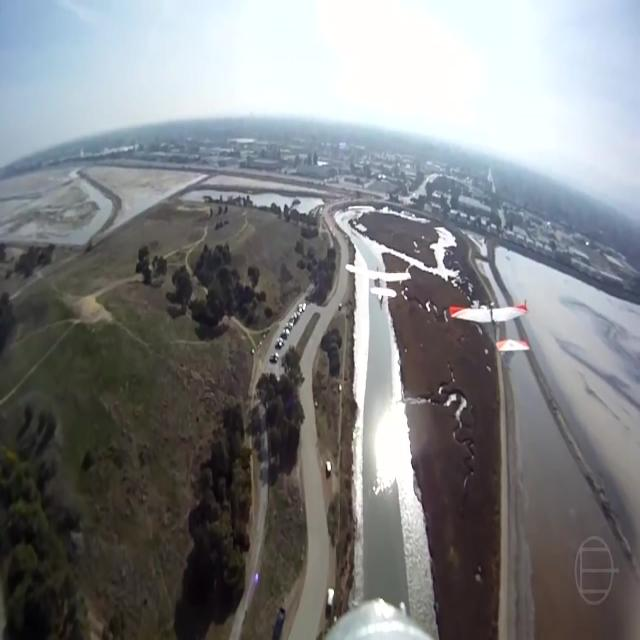iha: (376, 262, 379, 312), (481, 333, 499, 337)
